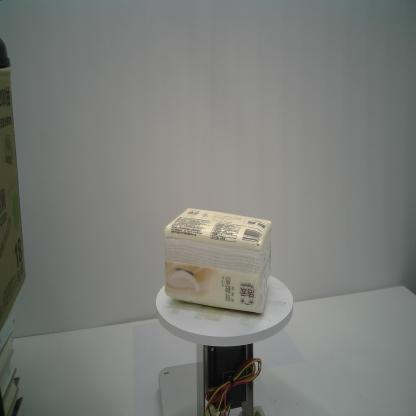Tissue: (163, 208, 273, 314)
